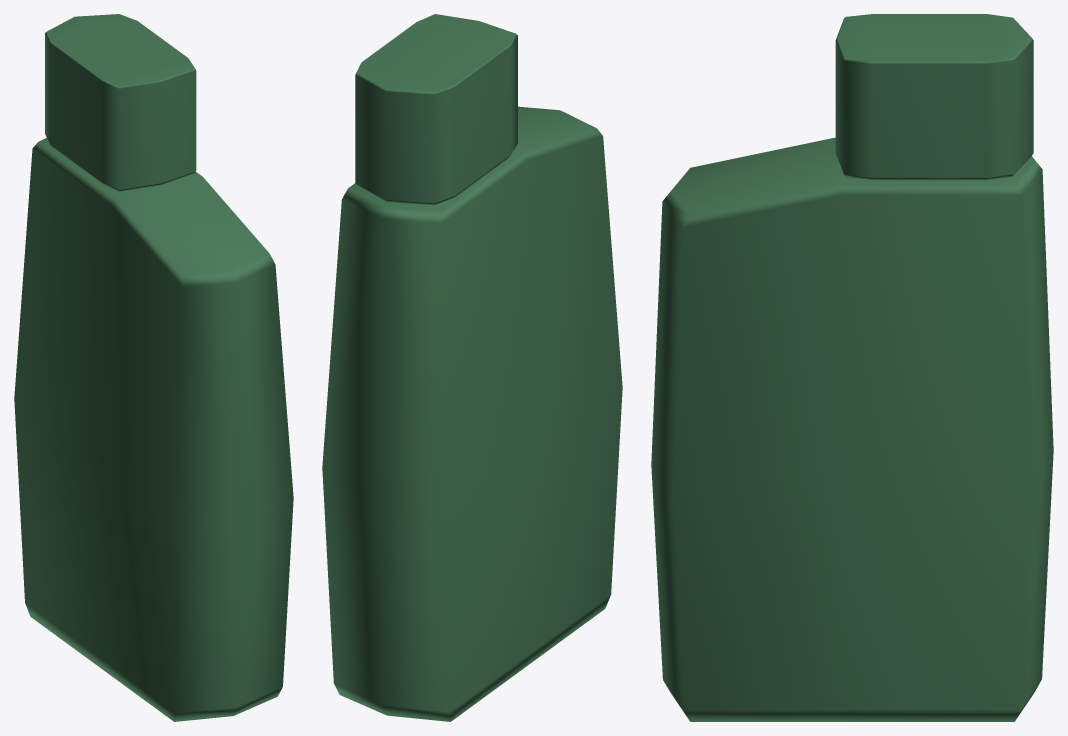
File: Household_Products_01.fbx
3 renders of one model, left to right at view 1: azimuth 30°, elevation 25°; view 2: azimuth 150°, elevation 25°; view 3: azimuth 270°, elevation 25°, orthographic. The views are drawn at different scales.
Visible parts, largest first — view 1: Household_Products_01; view 2: Household_Products_01; view 3: Household_Products_01.
Boxes of the visible parts, x1,y1,x2,y2 form: Household_Products_01: [14, 14, 293, 721]; Household_Products_01: [322, 14, 622, 721]; Household_Products_01: [651, 14, 1053, 721].
Size of the model in its own units: 10.01 by 46.26 by 25.72.
